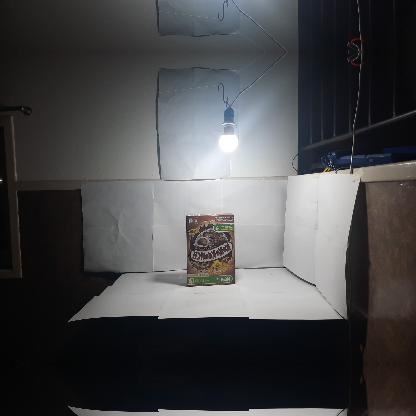Koko-Krunch: (186, 212, 234, 286)
